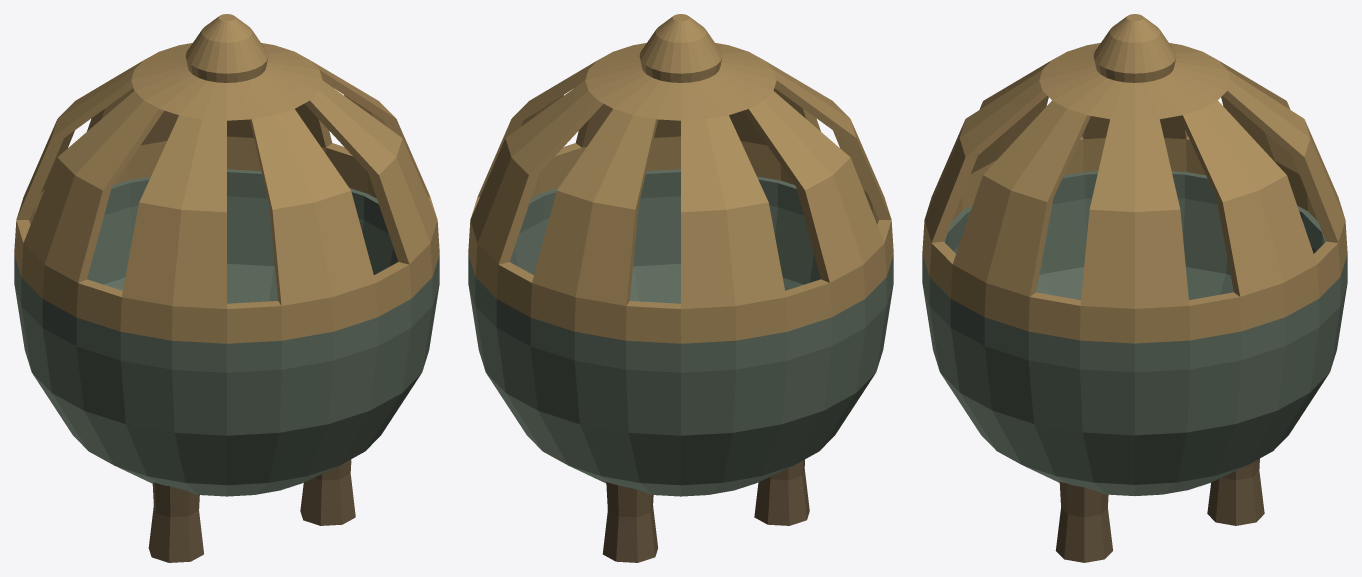
3 renders of one model, left to right at view 1: azimuth 30°, elevation 25°; view 2: azimuth 150°, elevation 25°; view 3: azimuth 270°, elevation 25°, orthographic.
Parts seen in each view (by area): view 1: WholeEightVentDomedLid, WholeDeepClosedBottomHerbBowl, WholeSolidLidFinial, WholeGroundedFoot2, WholeGroundedFoot3; view 2: WholeEightVentDomedLid, WholeDeepClosedBottomHerbBowl, WholeSolidLidFinial, WholeGroundedFoot1, WholeGroundedFoot2; view 3: WholeEightVentDomedLid, WholeDeepClosedBottomHerbBowl, WholeSolidLidFinial, WholeGroundedFoot3, WholeGroundedFoot1.
Boxes of the visible parts, bbox=[...] form: WholeEightVentDomedLid: bbox=[14, 43, 439, 343]; WholeDeepClosedBottomHerbBowl: bbox=[14, 169, 439, 496]; WholeSolidLidFinial: bbox=[185, 14, 268, 82]; WholeGroundedFoot2: bbox=[148, 482, 203, 562]; WholeGroundedFoot3: bbox=[300, 459, 355, 525]; WholeEightVentDomedLid: bbox=[468, 43, 893, 343]; WholeDeepClosedBottomHerbBowl: bbox=[468, 169, 893, 496]; WholeSolidLidFinial: bbox=[639, 14, 722, 82]; WholeGroundedFoot1: bbox=[602, 482, 657, 562]; WholeGroundedFoot2: bbox=[754, 459, 809, 525]; WholeEightVentDomedLid: bbox=[922, 43, 1347, 343]; WholeDeepClosedBottomHerbBowl: bbox=[922, 171, 1347, 495]; WholeSolidLidFinial: bbox=[1093, 14, 1176, 82]; WholeGroundedFoot3: bbox=[1055, 482, 1112, 562]; WholeGroundedFoot1: bbox=[1207, 458, 1264, 525].
Size of the model in its own units: 0.4 by 0.515 by 0.4.
